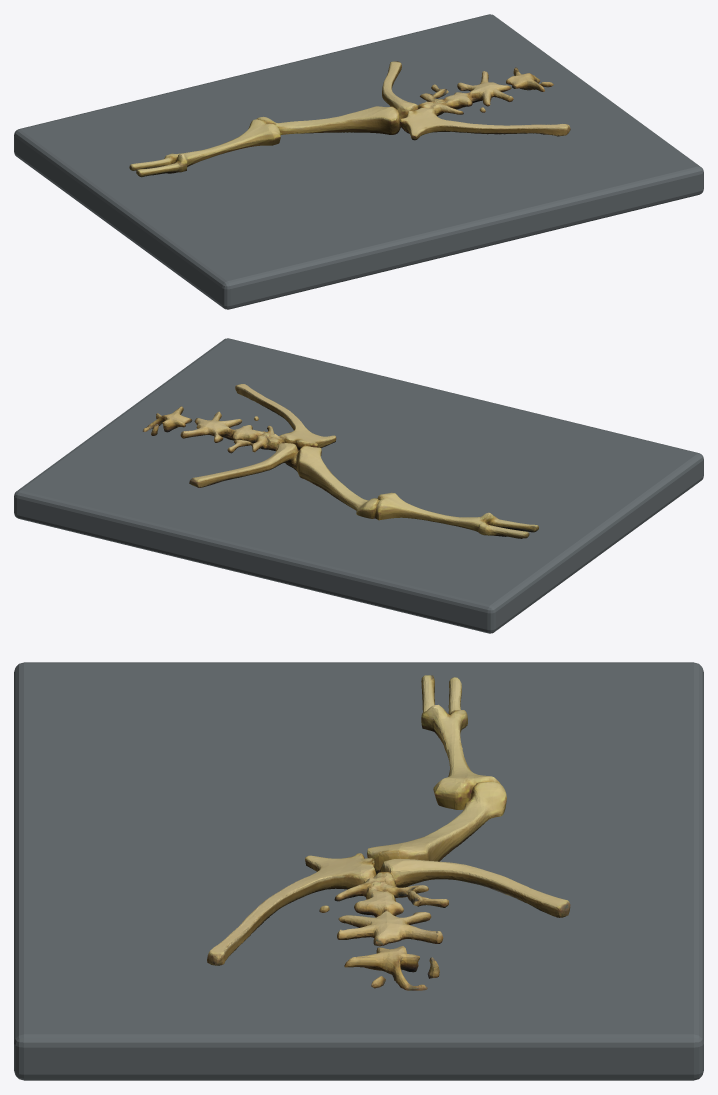
3 renders of one model, top to bottom at view 1: azimuth 30°, elevation 25°; view 2: azimuth 150°, elevation 25°; view 3: azimuth 270°, elevation 25°, orthographic. The views are drawn at different scales.
Parts seen in each view (by area): view 1: Modern display support - repaired, world; view 2: Modern display support - repaired, world; view 3: Modern display support - repaired, world.
Part boxes in pixels (x1,y1,x2,y2): Modern display support - repaired: [14, 14, 703, 309]; world: [129, 61, 570, 177]; Modern display support - repaired: [14, 338, 703, 633]; world: [142, 384, 538, 538]; Modern display support - repaired: [14, 662, 703, 1080]; world: [207, 675, 570, 990].
Bounding box in the file's own units: 1.08 × 0.108 × 0.83.
2 materials, 1 textured.
